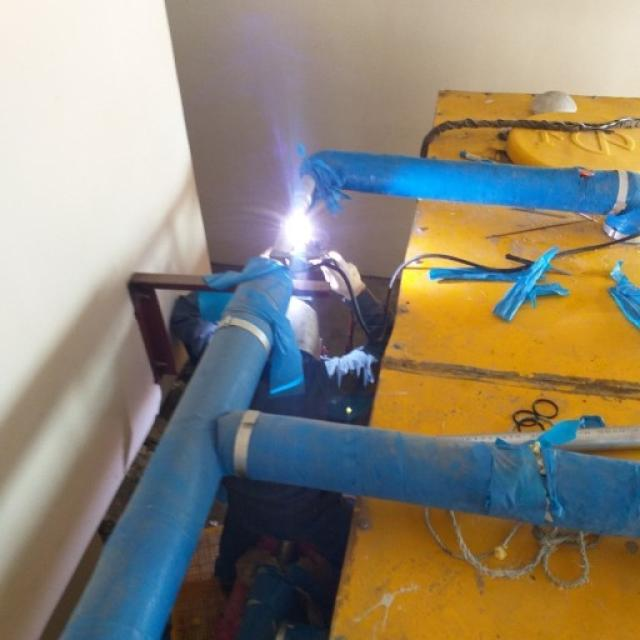welding: (283, 208, 316, 250)
